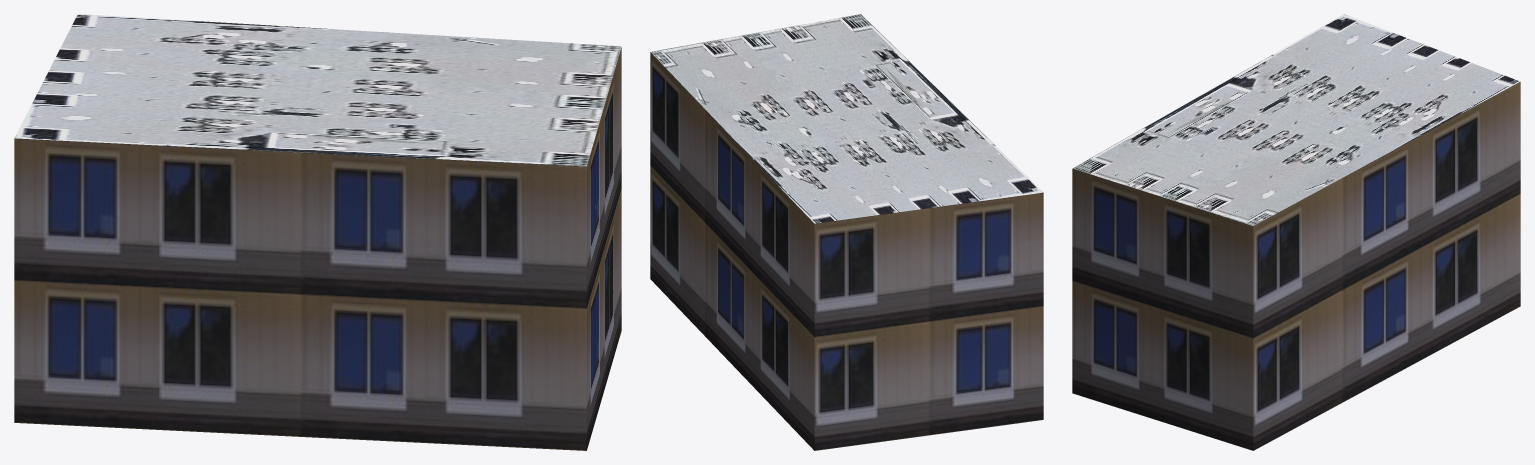
The model's file is ResTex__515.fbx.
The picture shows the model from 3 angles, left to right: view 1: azimuth 30°, elevation 25°; view 2: azimuth 150°, elevation 25°; view 3: azimuth 270°, elevation 25°; orthographic projection. The views are drawn at different scales.
Visible parts, largest first — view 1: CityEngineMaterial_5_m, CityEngineMaterial_4_m; view 2: CityEngineMaterial_5_m, CityEngineMaterial_4_m; view 3: CityEngineMaterial_5_m, CityEngineMaterial_4_m.
Boxes of the visible parts, x1,y1,x2,y2 form: CityEngineMaterial_5_m: (14,47,621,450); CityEngineMaterial_4_m: (14,14,621,166); CityEngineMaterial_5_m: (650,52,1043,450); CityEngineMaterial_4_m: (650,14,1043,223); CityEngineMaterial_5_m: (1072,82,1520,450); CityEngineMaterial_4_m: (1072,14,1520,225).
Bounding box in the file's own units: 12.14 × 6 × 10.84.
Materials: 2 (2 with a texture image).
